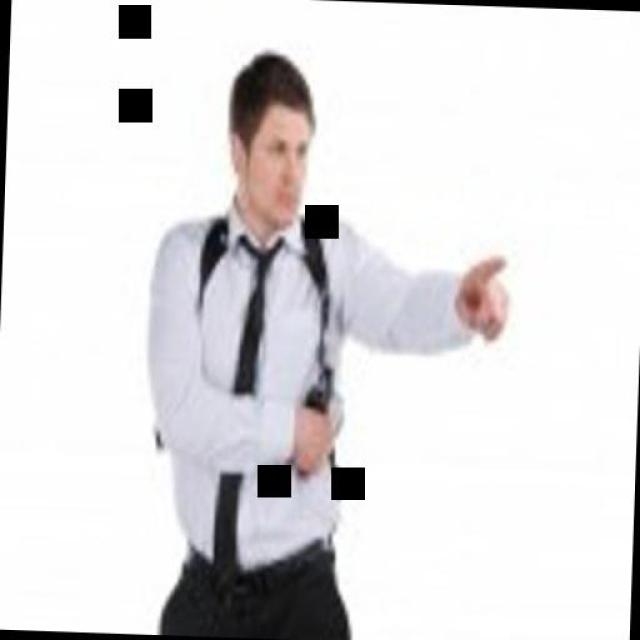gun: (282, 348, 352, 487)
